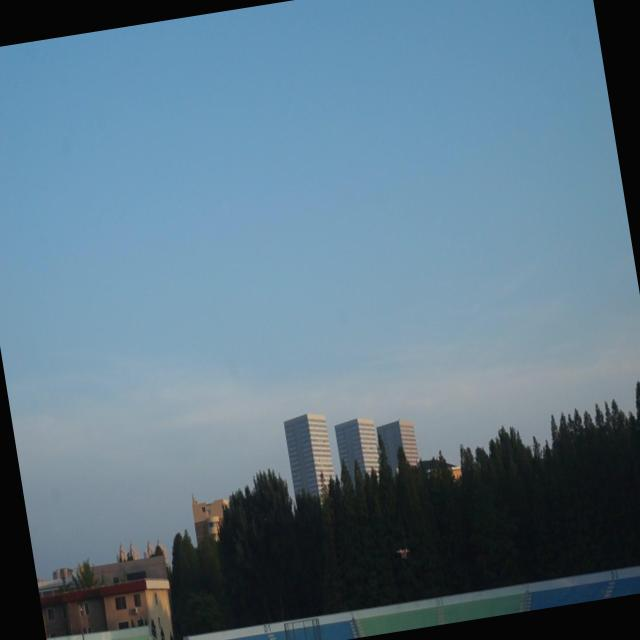drone: (393, 540, 412, 565)
